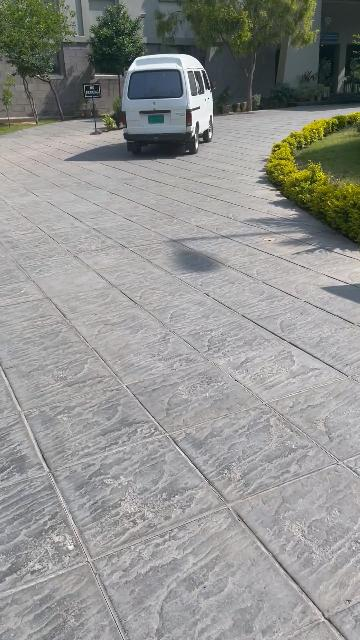plate: (148, 114, 166, 125)
